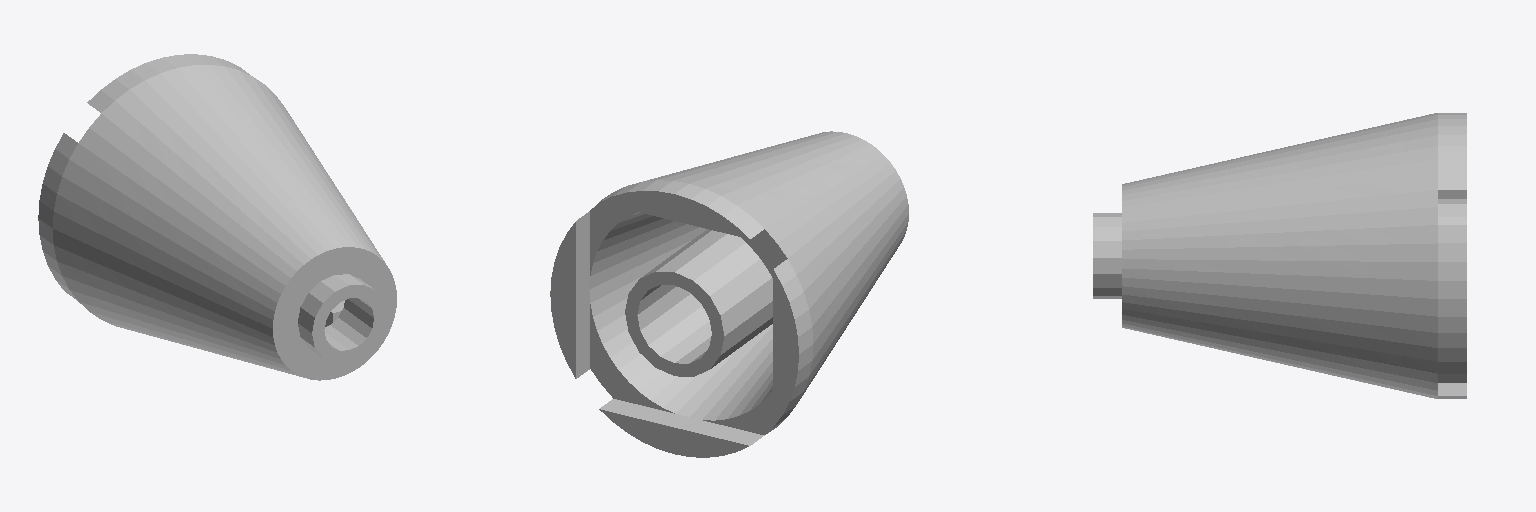
The picture shows the model from 3 angles: view 1: azimuth 30°, elevation 25°; view 2: azimuth 150°, elevation 25°; view 3: azimuth 270°, elevation 25°; orthographic projection.
Visible parts, largest first — view 1: Piece000; view 2: Piece000; view 3: Piece000.
Part boxes in pixels (left/top/right/bottom): Piece000: left=38, top=54, right=396, bottom=380; Piece000: left=550, top=131, right=908, bottom=457; Piece000: left=1093, top=113, right=1466, bottom=398.
Size of the model in its own units: 40 by 40 by 52.